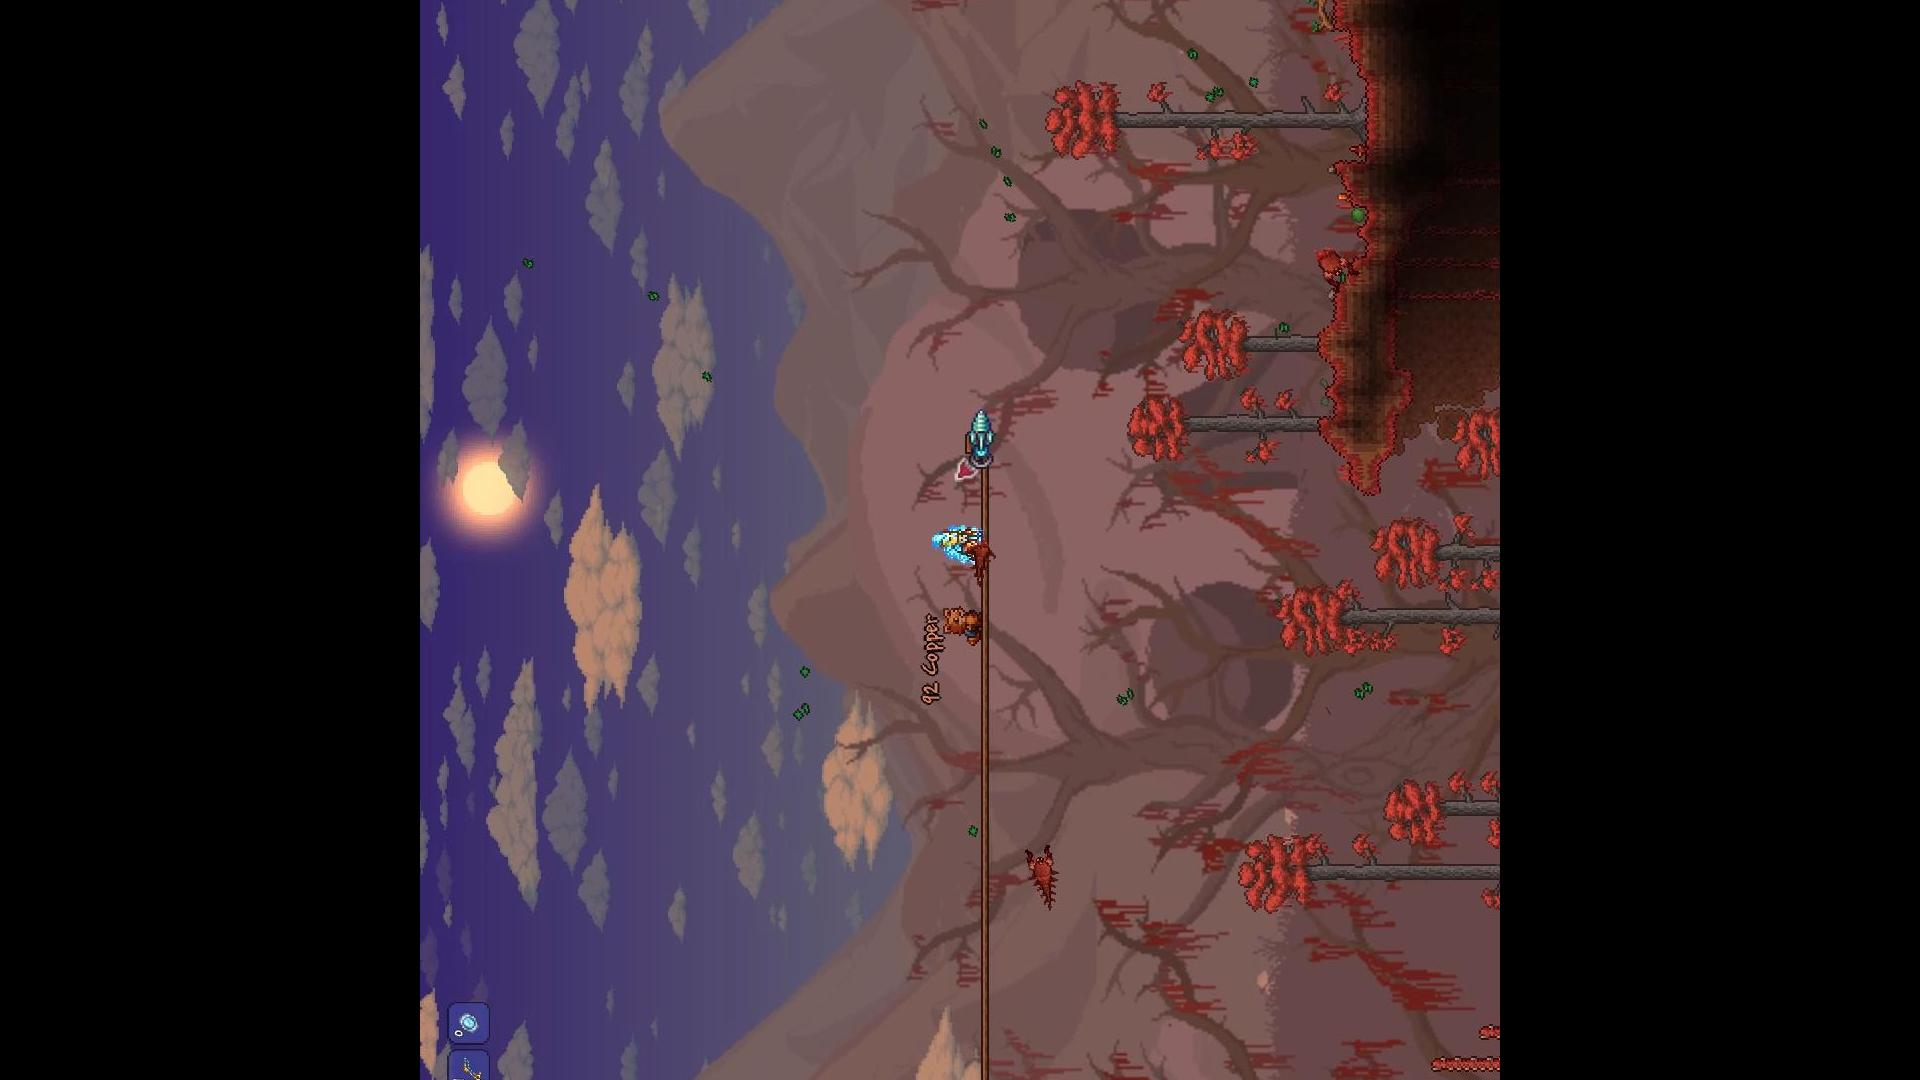crimera: (1014, 848, 1059, 913)
